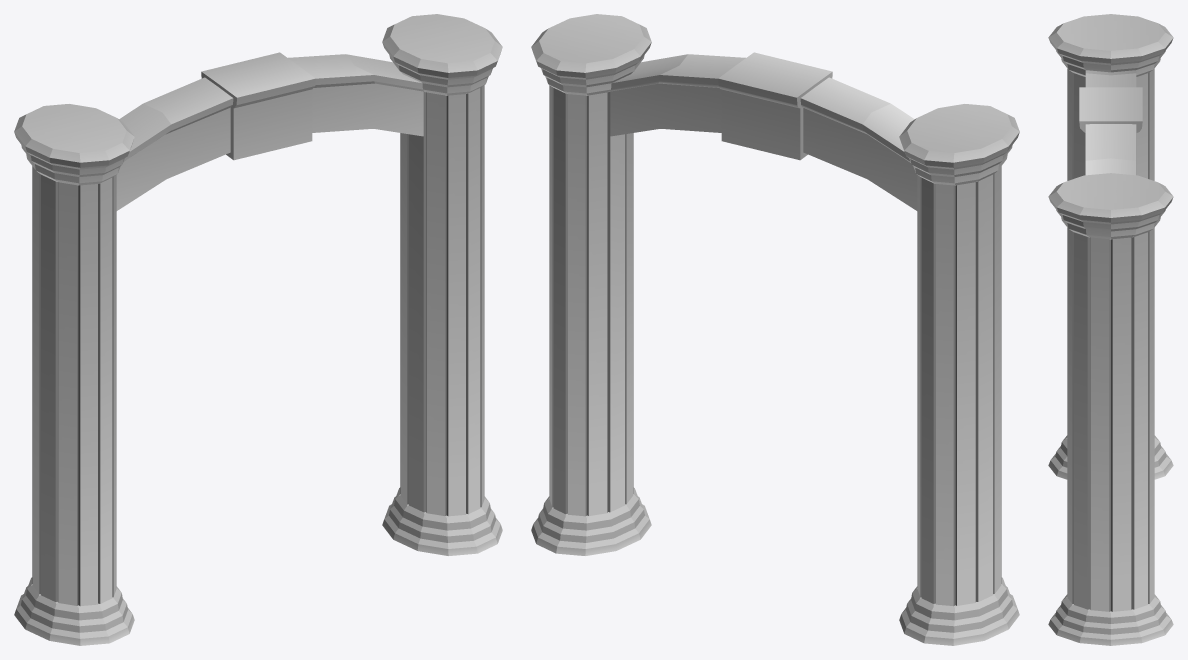
Rendered from PROP_005_Portal.fbx.
3 views of the same model, side by side, from view 1: azimuth 30°, elevation 25°; view 2: azimuth 150°, elevation 25°; view 3: azimuth 270°, elevation 25° (orthographic). The views are drawn at different scales.
Visible parts, largest first — view 1: PROP_005_Portal; view 2: PROP_005_Portal; view 3: PROP_005_Portal.
Boxes of the visible parts, left/top/right/bottom form: PROP_005_Portal: left=14, top=14, right=502, bottom=645; PROP_005_Portal: left=531, top=14, right=1019, bottom=645; PROP_005_Portal: left=1048, top=14, right=1173, bottom=645.
Bounding box in the file's own units: 52.37 × 53.4 × 13.76.
